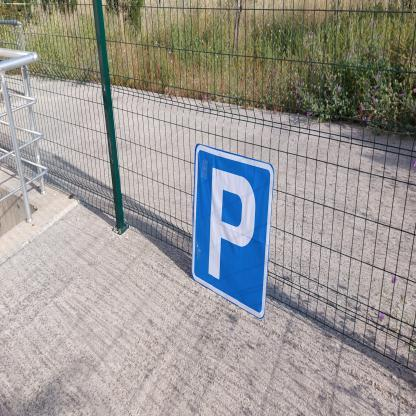parking: (191, 141, 274, 323)
